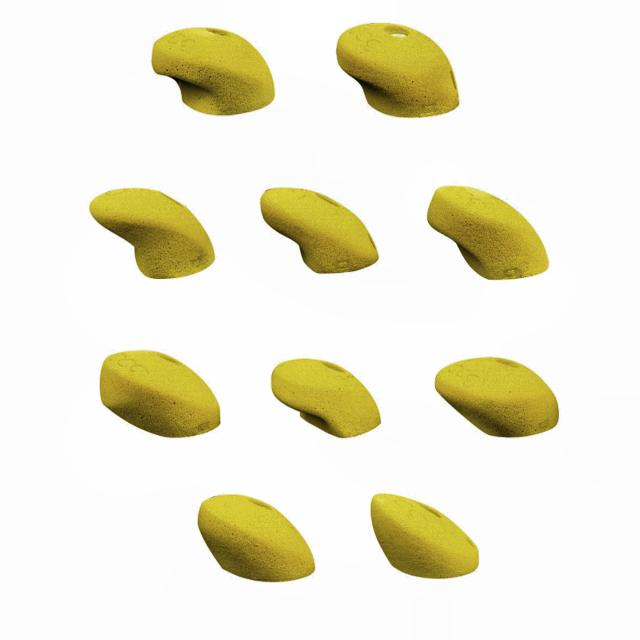Hold: (334, 20, 461, 119), (428, 182, 550, 280), (89, 190, 217, 280), (150, 26, 277, 114), (99, 352, 222, 438), (259, 186, 378, 274), (196, 493, 316, 580), (436, 355, 560, 439), (371, 490, 480, 580), (270, 357, 384, 441)
